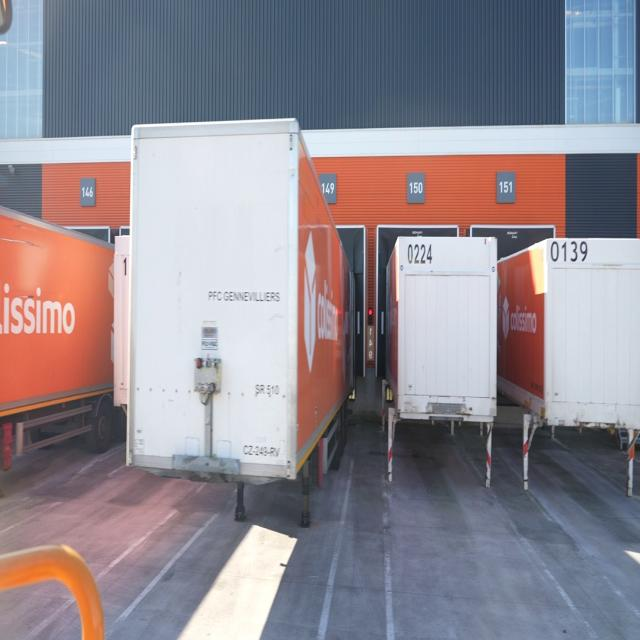Code: (547, 236, 589, 269), (405, 240, 436, 267)
